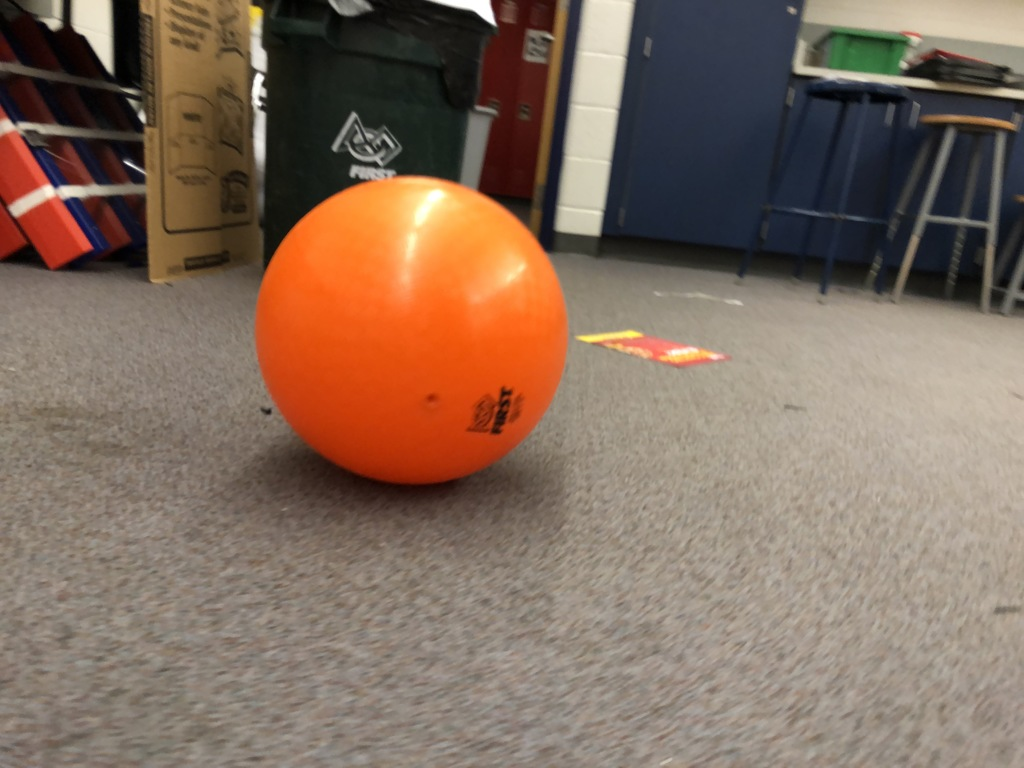cargo: (243, 164, 585, 501)
